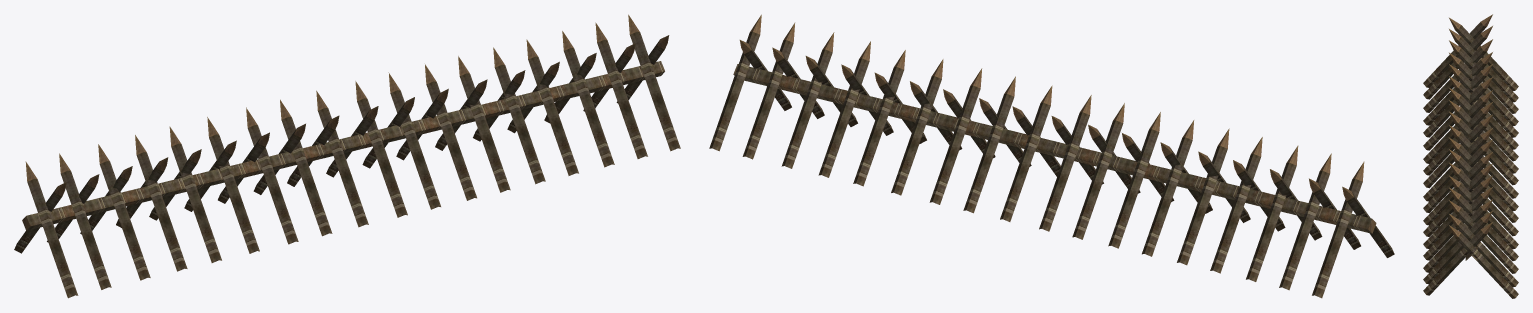
The model's file is barricade_01.glb.
The picture shows the model from 3 angles, left to right: view 1: azimuth 30°, elevation 25°; view 2: azimuth 150°, elevation 25°; view 3: azimuth 270°, elevation 25°; orthographic projection. The views are drawn at different scales.
Visible parts, largest first — view 1: res\artifact\guild\barricade\barricade_01.bsr; view 2: res\artifact\guild\barricade\barricade_01.bsr; view 3: res\artifact\guild\barricade\barricade_01.bsr.
Part boxes in pixels (x1,y1,x2,y2): res\artifact\guild\barricade\barricade_01.bsr: (14,14,680,298); res\artifact\guild\barricade\barricade_01.bsr: (709,14,1394,298); res\artifact\guild\barricade\barricade_01.bsr: (1423,14,1518,298).
Bounding box in the file's own units: 99.57 × 15.73 × 18.44.
Materials: 2 (2 with a texture image).
